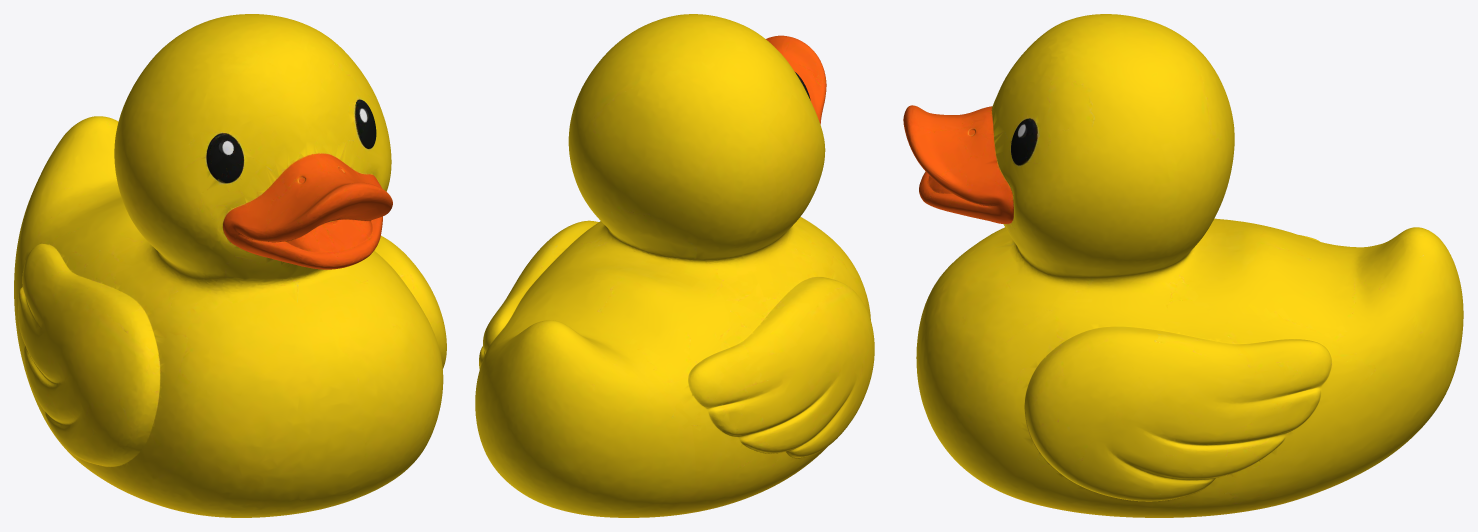
File: duck.glb
3 views of the same model, side by side, from view 1: azimuth 30°, elevation 25°; view 2: azimuth 150°, elevation 25°; view 3: azimuth 270°, elevation 25° (orthographic). The views are drawn at different scales.
Parts seen in each view (by area): view 1: Mesh_0; view 2: Mesh_0; view 3: Mesh_0.
Boxes of the visible parts, x1,y1,x2,y2 form: Mesh_0: (14, 14, 446, 517); Mesh_0: (475, 14, 874, 517); Mesh_0: (903, 14, 1463, 517).
Bounding box in the file's own units: 0.2502 × 0.3 × 0.3558.
1 material, 1 textured.
